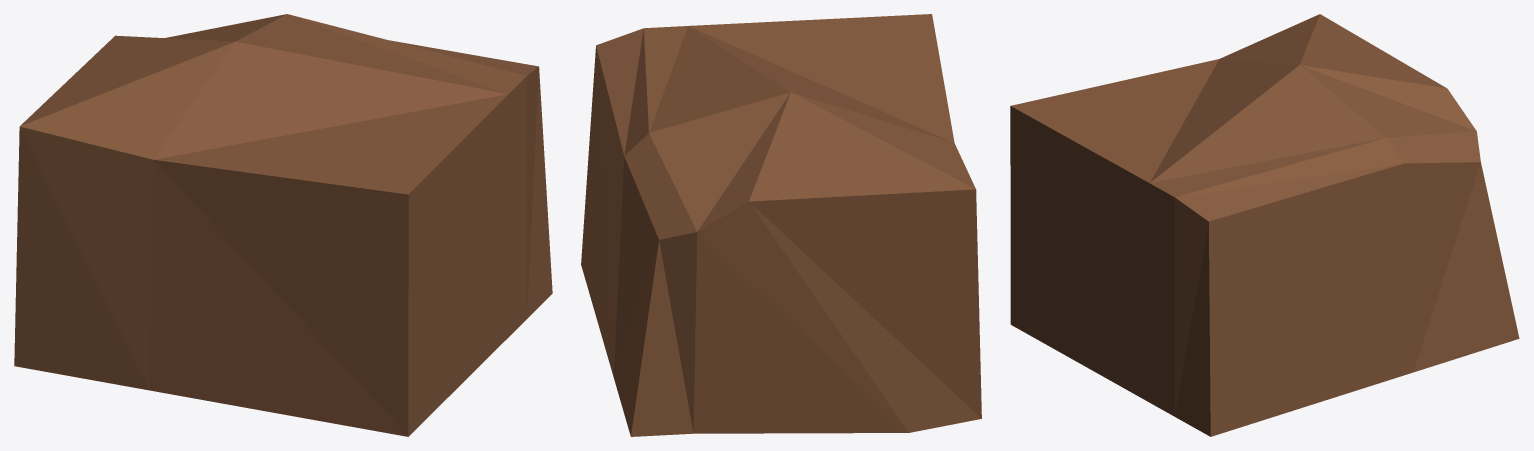
3 renders of one model, left to right at view 1: azimuth 30°, elevation 25°; view 2: azimuth 150°, elevation 25°; view 3: azimuth 270°, elevation 25°, orthographic. The views are drawn at different scales.
Visible parts, largest first — view 1: box; view 2: box; view 3: box.
Boxes of the visible parts, <box> form: box: <box>14,14,552,436</box>; box: <box>581,14,981,436</box>; box: <box>1010,14,1519,436</box>.
Bounding box in the file's own units: 1.61 × 0.9273 × 1.64.
